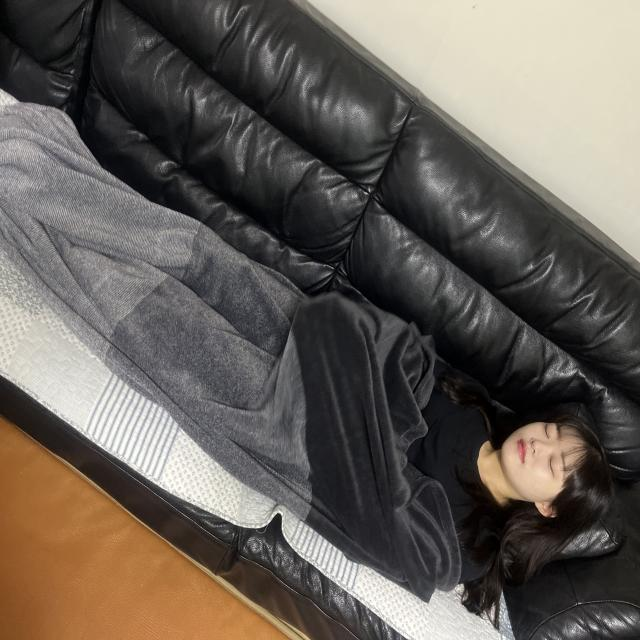people: (4, 70, 609, 634)
